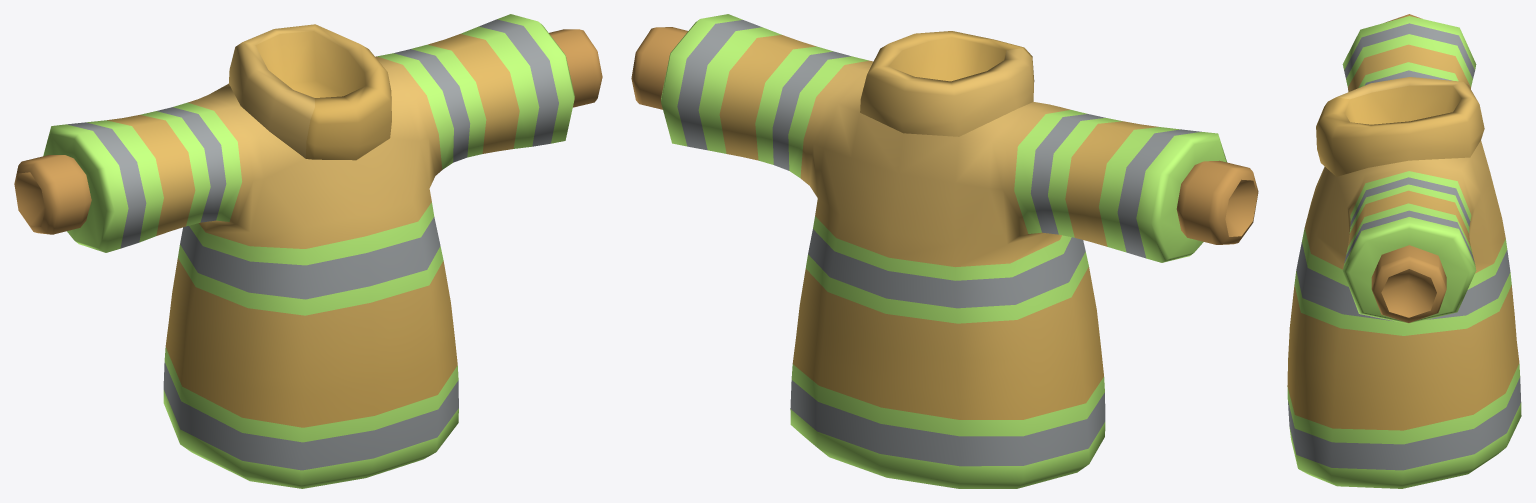
The model's file is Top_51.fbx.
3 views of the same model, side by side, from view 1: azimuth 30°, elevation 25°; view 2: azimuth 150°, elevation 25°; view 3: azimuth 270°, elevation 25° (orthographic). The views are drawn at different scales.
Visible parts, largest first — view 1: Top_51; view 2: Top_51; view 3: Top_51.
Boxes of the visible parts, left/top/right/bottom form: Top_51: left=14, top=14, right=602, bottom=488; Top_51: left=631, top=14, right=1258, bottom=488; Top_51: left=1287, top=14, right=1521, bottom=488.
Size of the model in its own units: 95.83 by 62.86 by 37.92.
